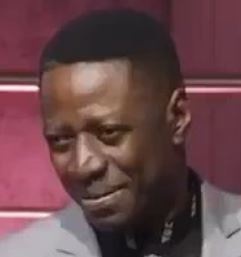without_facemask: (54, 160, 152, 231)
